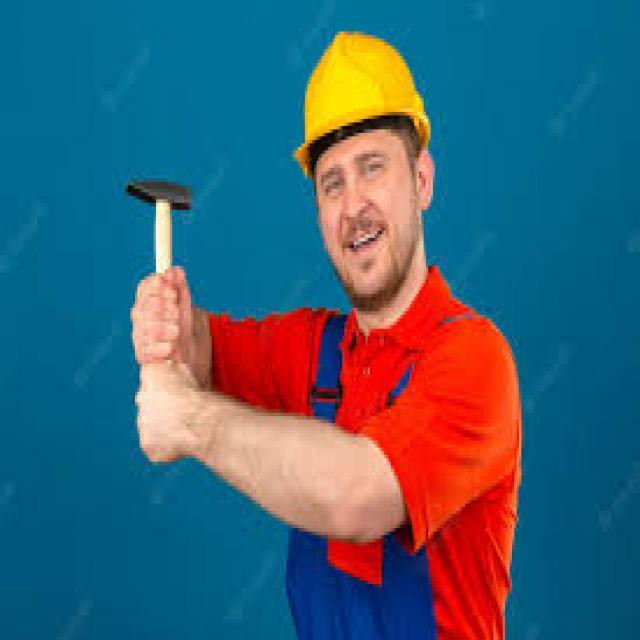hammer: (125, 172, 202, 304)
